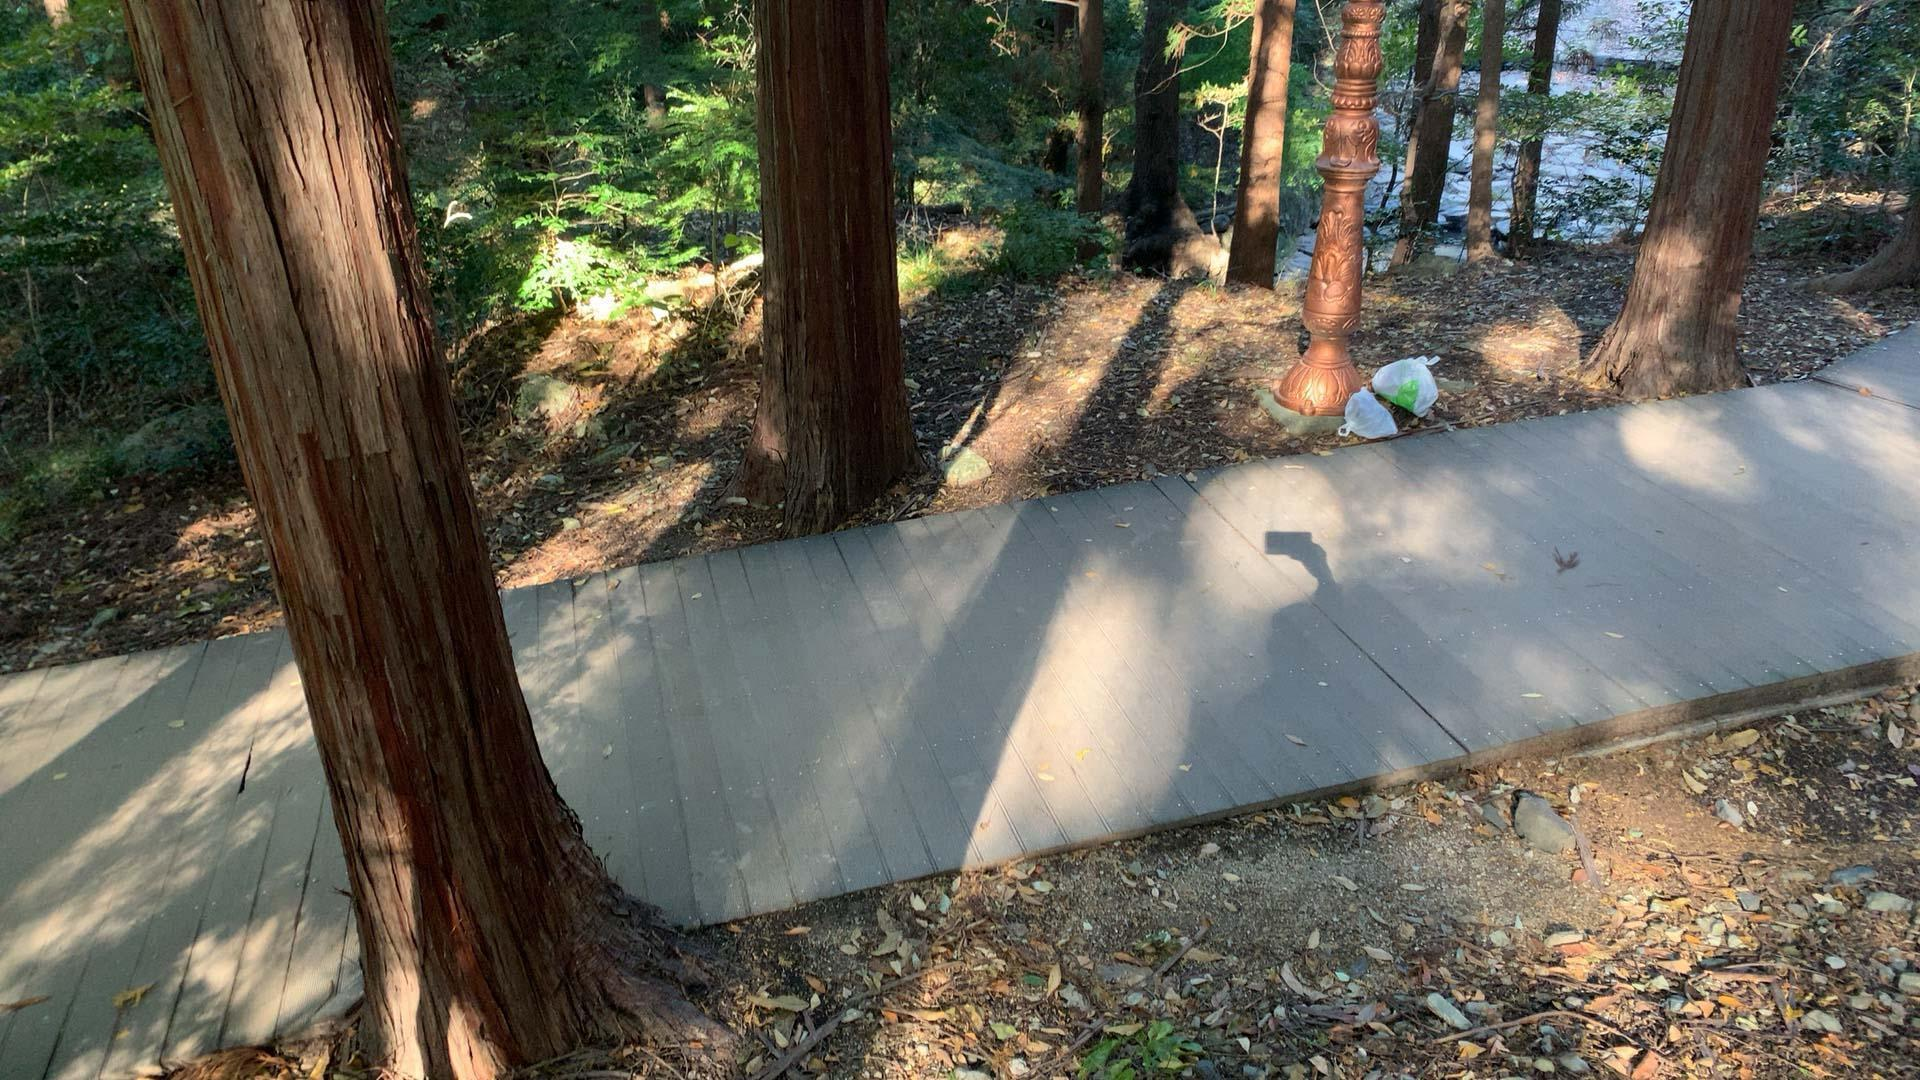white_bag: (1367, 345, 1447, 418), (1335, 385, 1400, 446)
